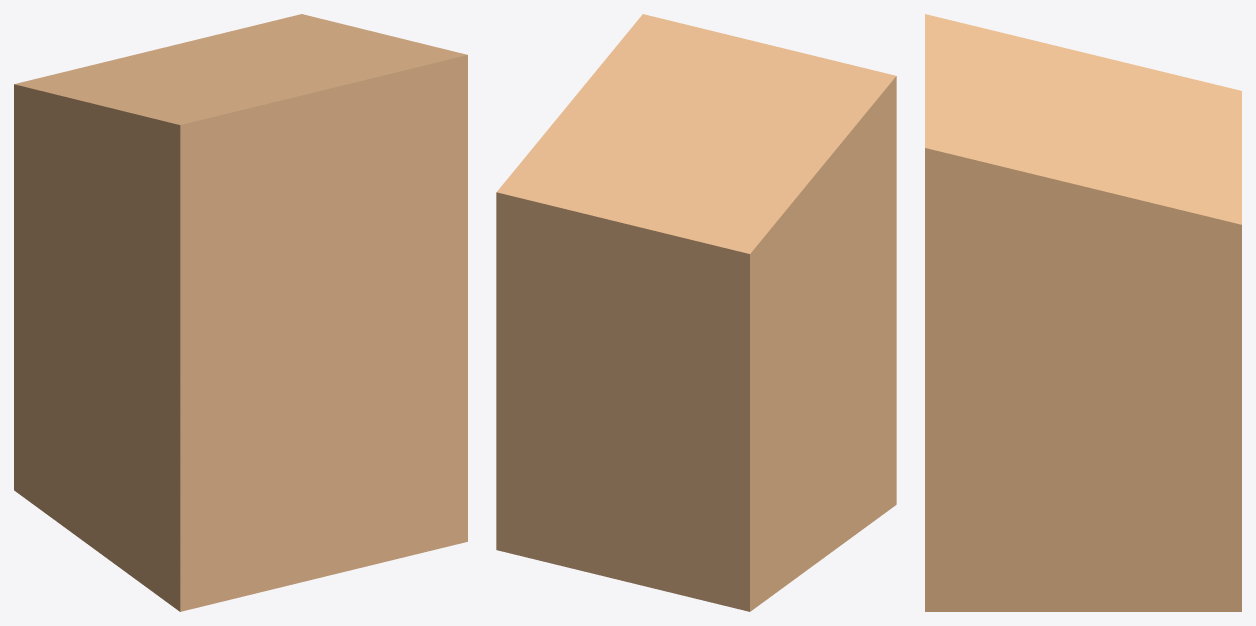
File: home_3x3_lo.fbx
3 views of the same model, side by side, from view 1: azimuth 30°, elevation 25°; view 2: azimuth 150°, elevation 25°; view 3: azimuth 270°, elevation 25° (orthographic). The views are drawn at different scales.
Parts seen in each view (by area): view 1: Model; view 2: Model; view 3: Model.
Boxes of the visible parts, x1=… form: Model: x1=14, y1=14, x2=467, y2=611; Model: x1=496, y1=14, x2=896, y2=611; Model: x1=925, y1=14, x2=1241, y2=611.
Size of the model in its own units: 3000 by 4849 by 3000.
